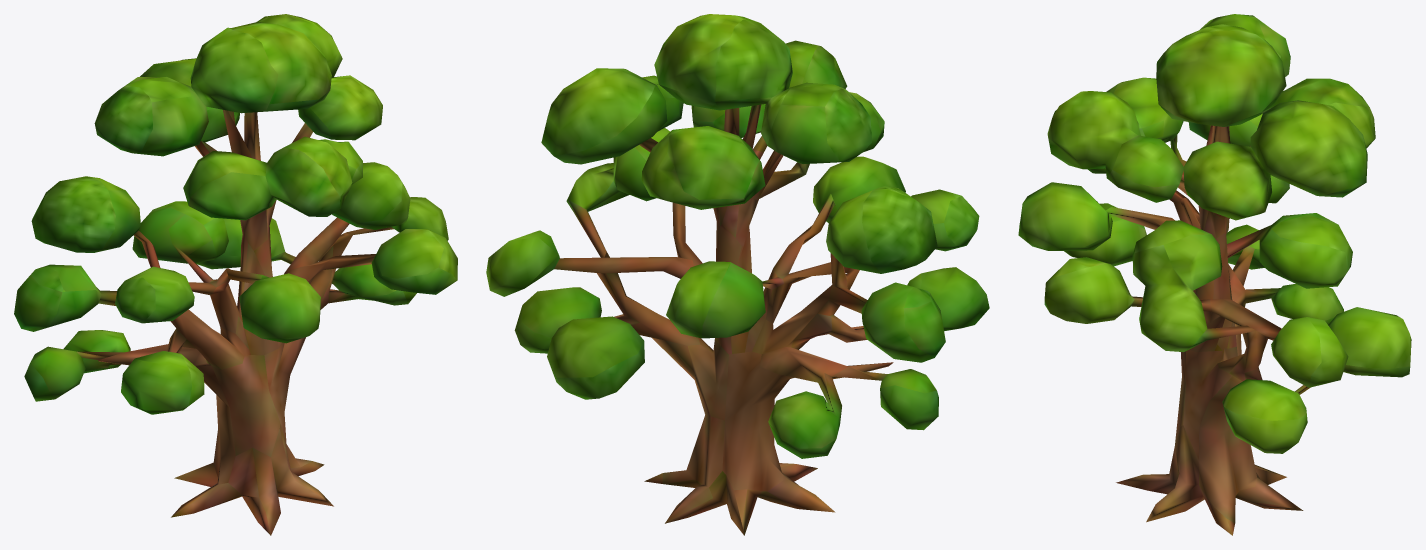
File: bonsai.glb
3 renders of one model, left to right at view 1: azimuth 30°, elevation 25°; view 2: azimuth 150°, elevation 25°; view 3: azimuth 270°, elevation 25°, orthographic. The views are drawn at different scales.
Visible parts, largest first — view 1: tripo_node_826cf9af-df21-4938-86aa-7a4d07ea4004; view 2: tripo_node_826cf9af-df21-4938-86aa-7a4d07ea4004; view 3: tripo_node_826cf9af-df21-4938-86aa-7a4d07ea4004.
Part boxes in pixels (left/top/right/bottom): tripo_node_826cf9af-df21-4938-86aa-7a4d07ea4004: left=14, top=14, right=457, bottom=535; tripo_node_826cf9af-df21-4938-86aa-7a4d07ea4004: left=486, top=14, right=989, bottom=535; tripo_node_826cf9af-df21-4938-86aa-7a4d07ea4004: left=1018, top=14, right=1411, bottom=535.
Bounding box in the file's own units: 0.9246 × 1 × 0.7601.
Materials: 1 (1 with a texture image).
